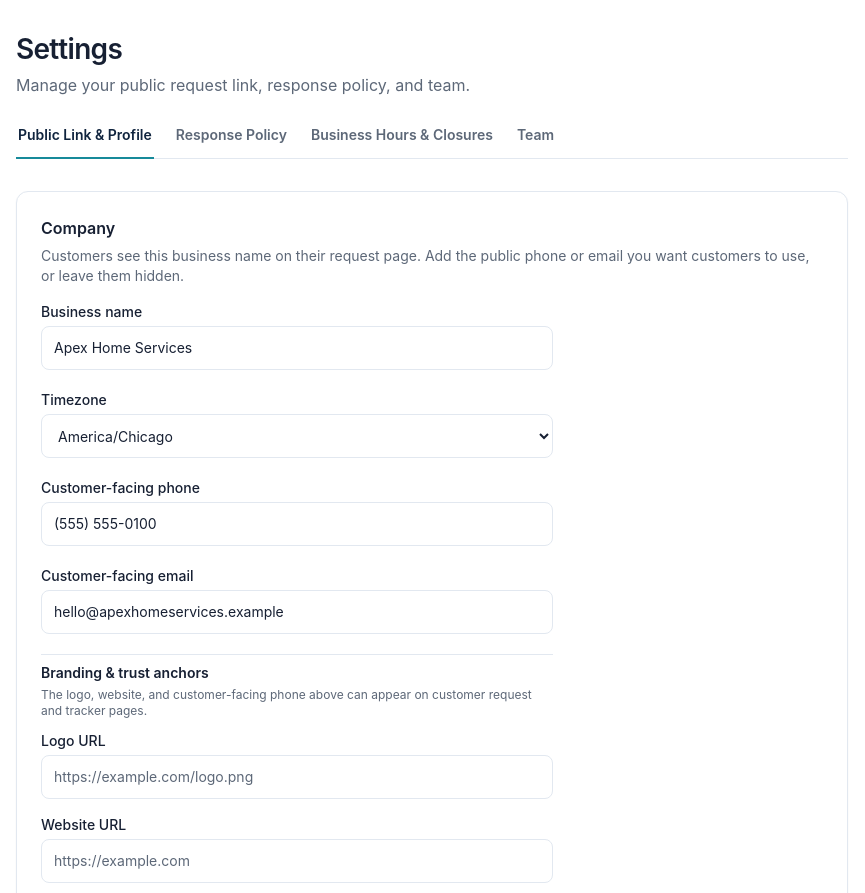
Test: Settings branding draft and preview › surfaces the server's invalid-URL error while preserving the typed draft
Step 1. Type "http://example.com/logo.png" into the field labelled "Logo URL" → (297, 777), box [41,755,553,799]
(page scrolled)
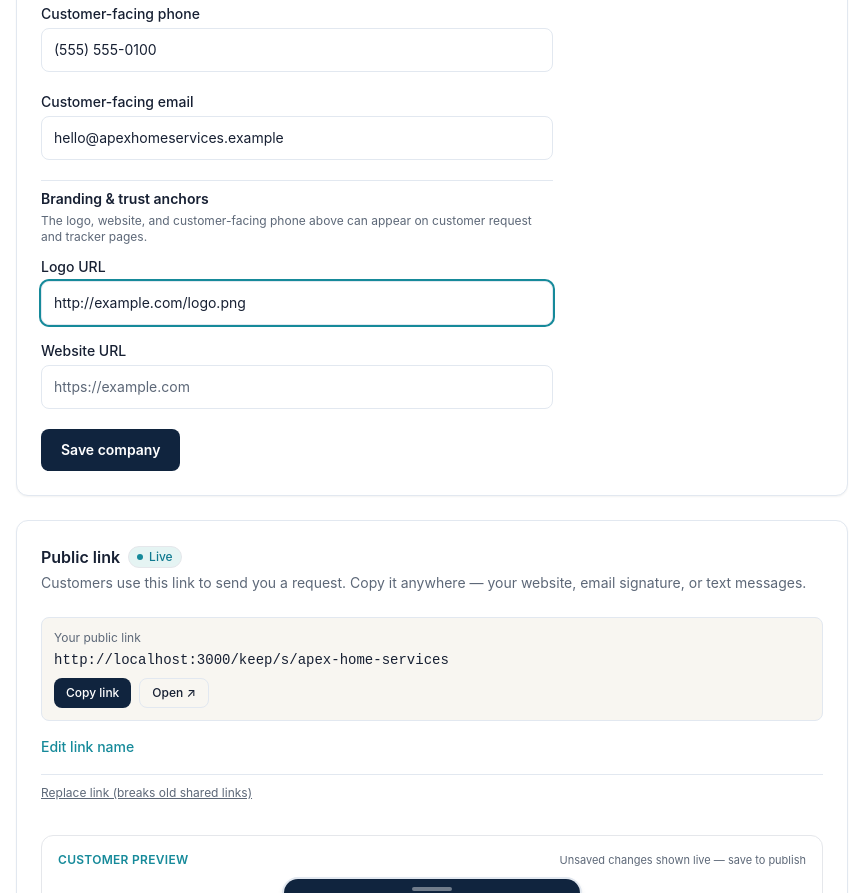
Step 2. Click the button "Save company" → click(111, 450), box [41,429,180,471]
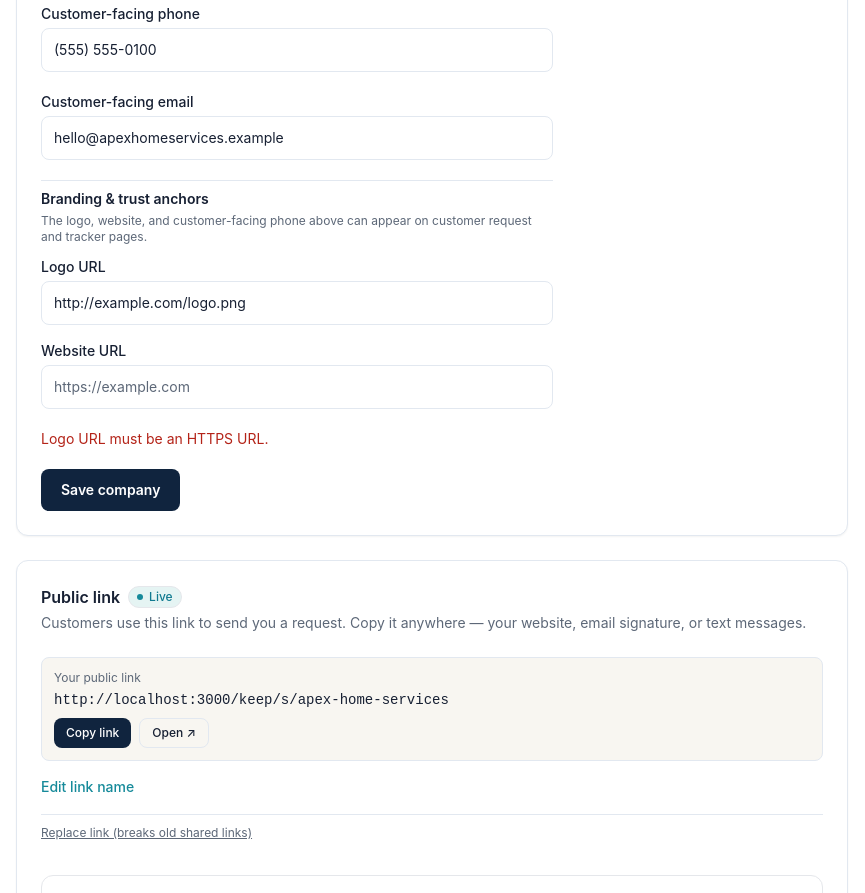
Expected: the text "Logo URL must be an HTTPS URL." is shown, [41,430,268,447]
